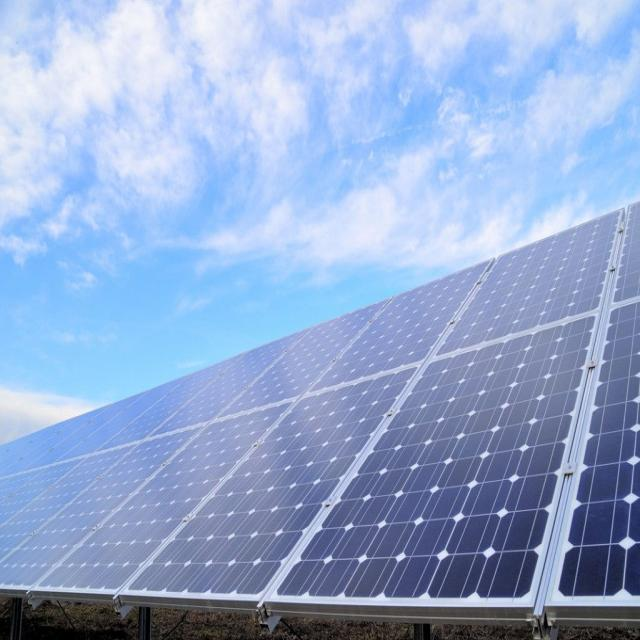clean-solar-panel: (1, 203, 640, 632)
